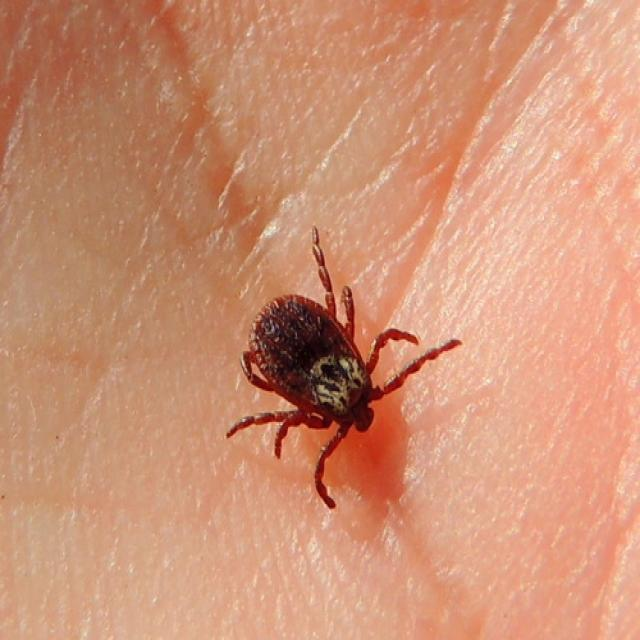Dermacentor Reticulatus-F: (227, 227, 462, 509)
